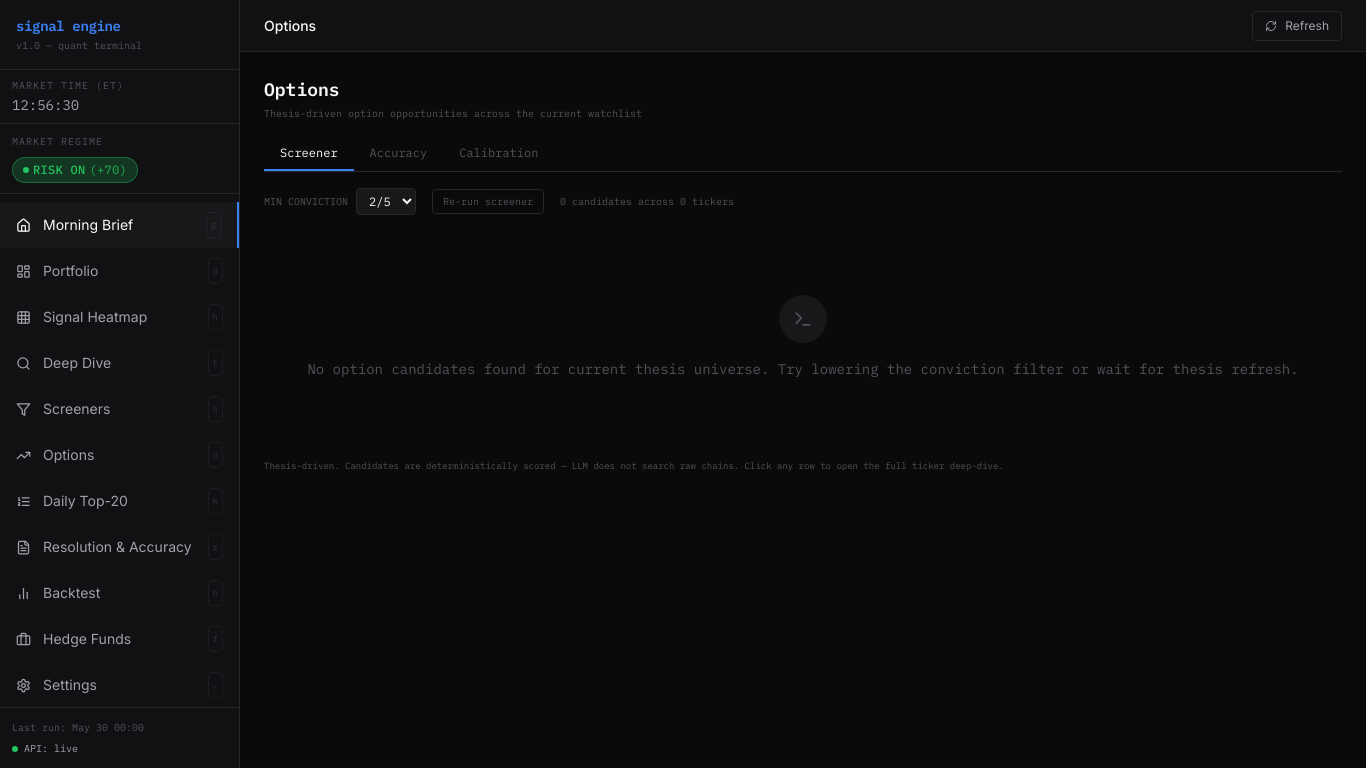
Test: OptionsPage — Accuracy tab › switches to accuracy tab on click
Click the tab "Accuracy" at (398, 154), box [354,137,443,171]
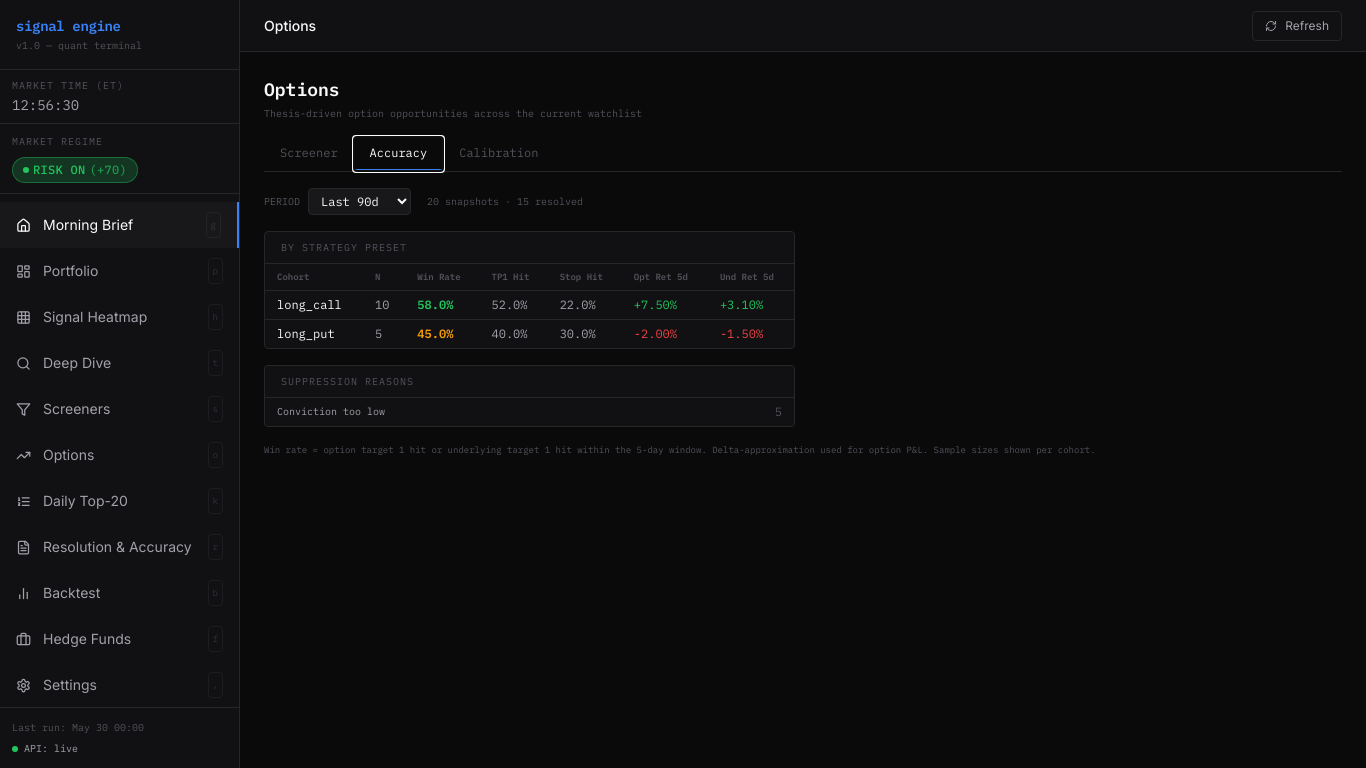
Expected: the text "By Strategy Preset" is shown, [265,232,794,264]
